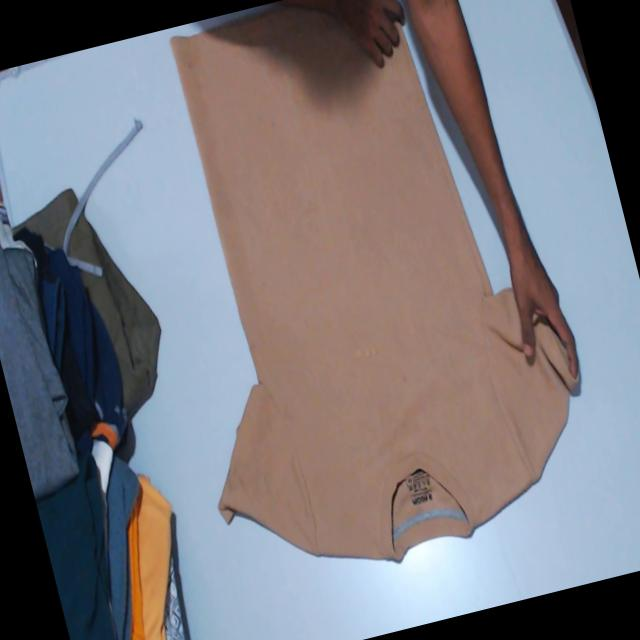new-garment: (172, 11, 576, 559)
